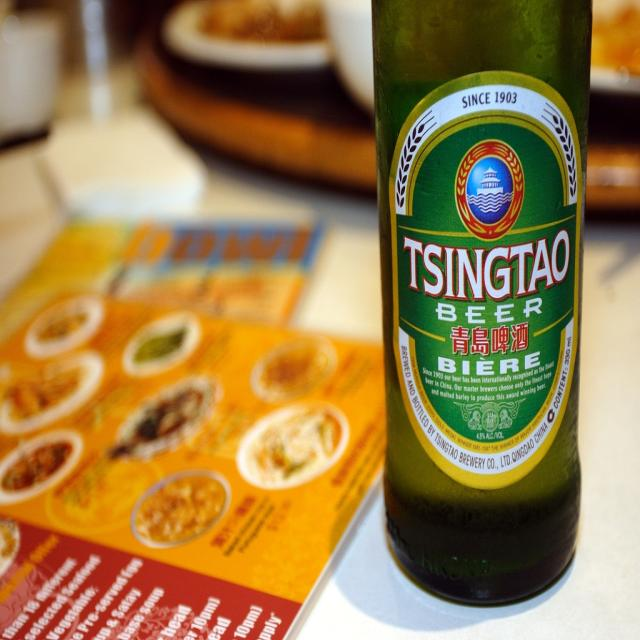tsingtao: (389, 71, 584, 490)
